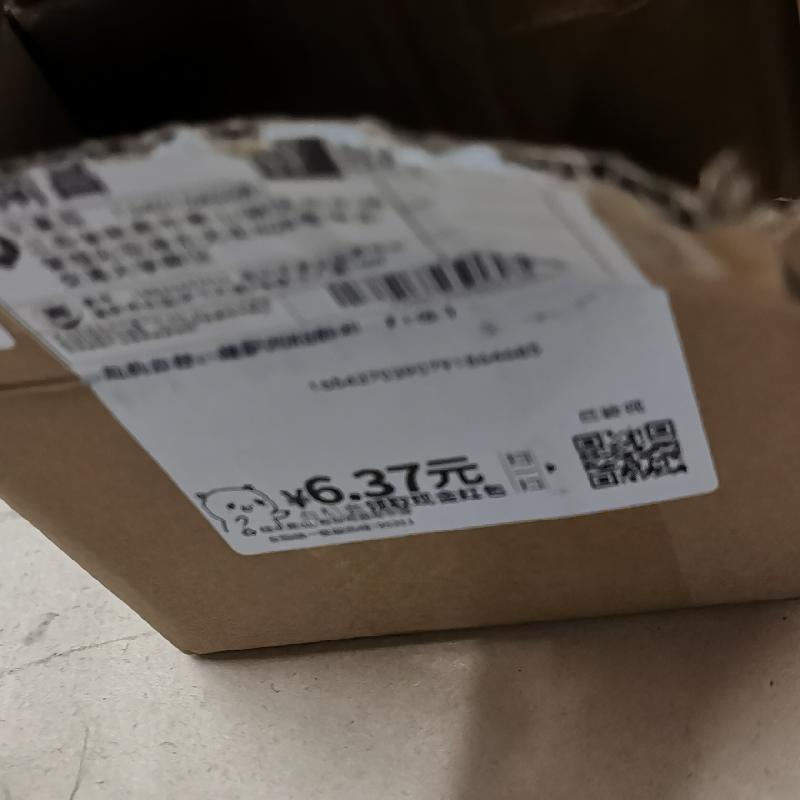boxes: (9, 6, 799, 799)
